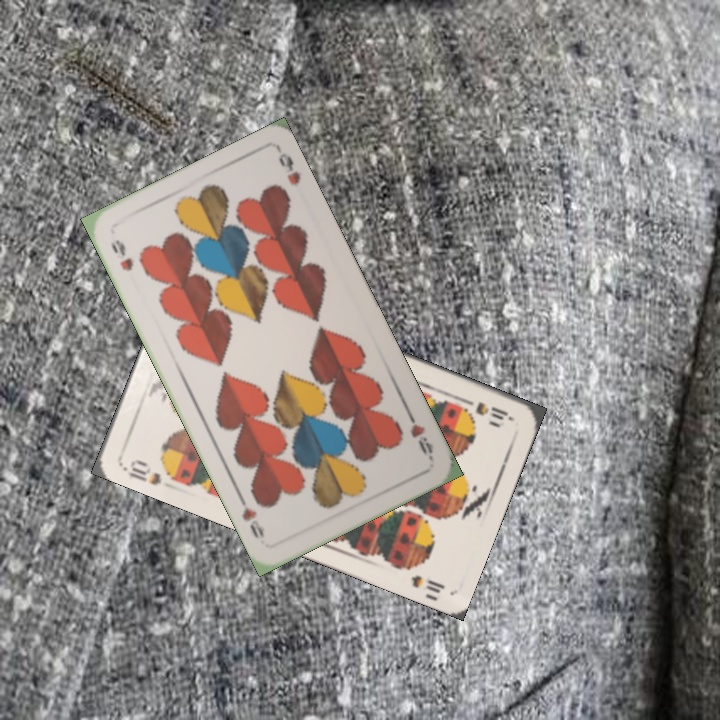H9: (402, 406, 436, 462), (106, 235, 137, 274)
S10: (458, 394, 515, 424), (124, 455, 164, 488)
